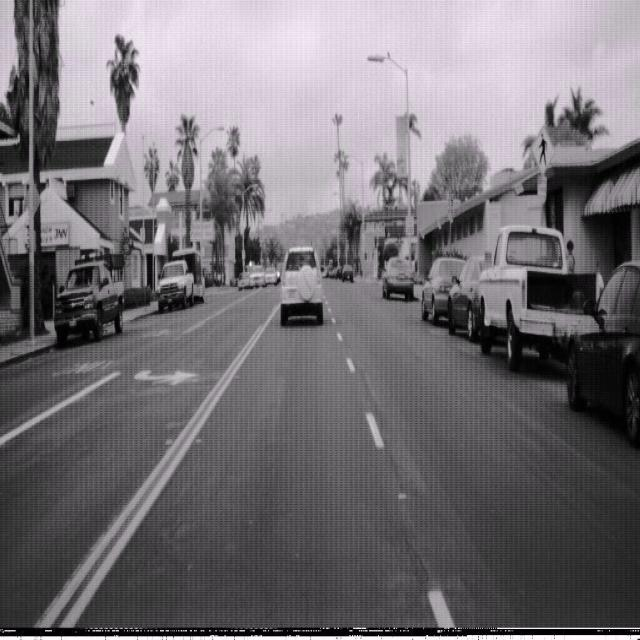pedestrianCrossing: (530, 123, 556, 175)
